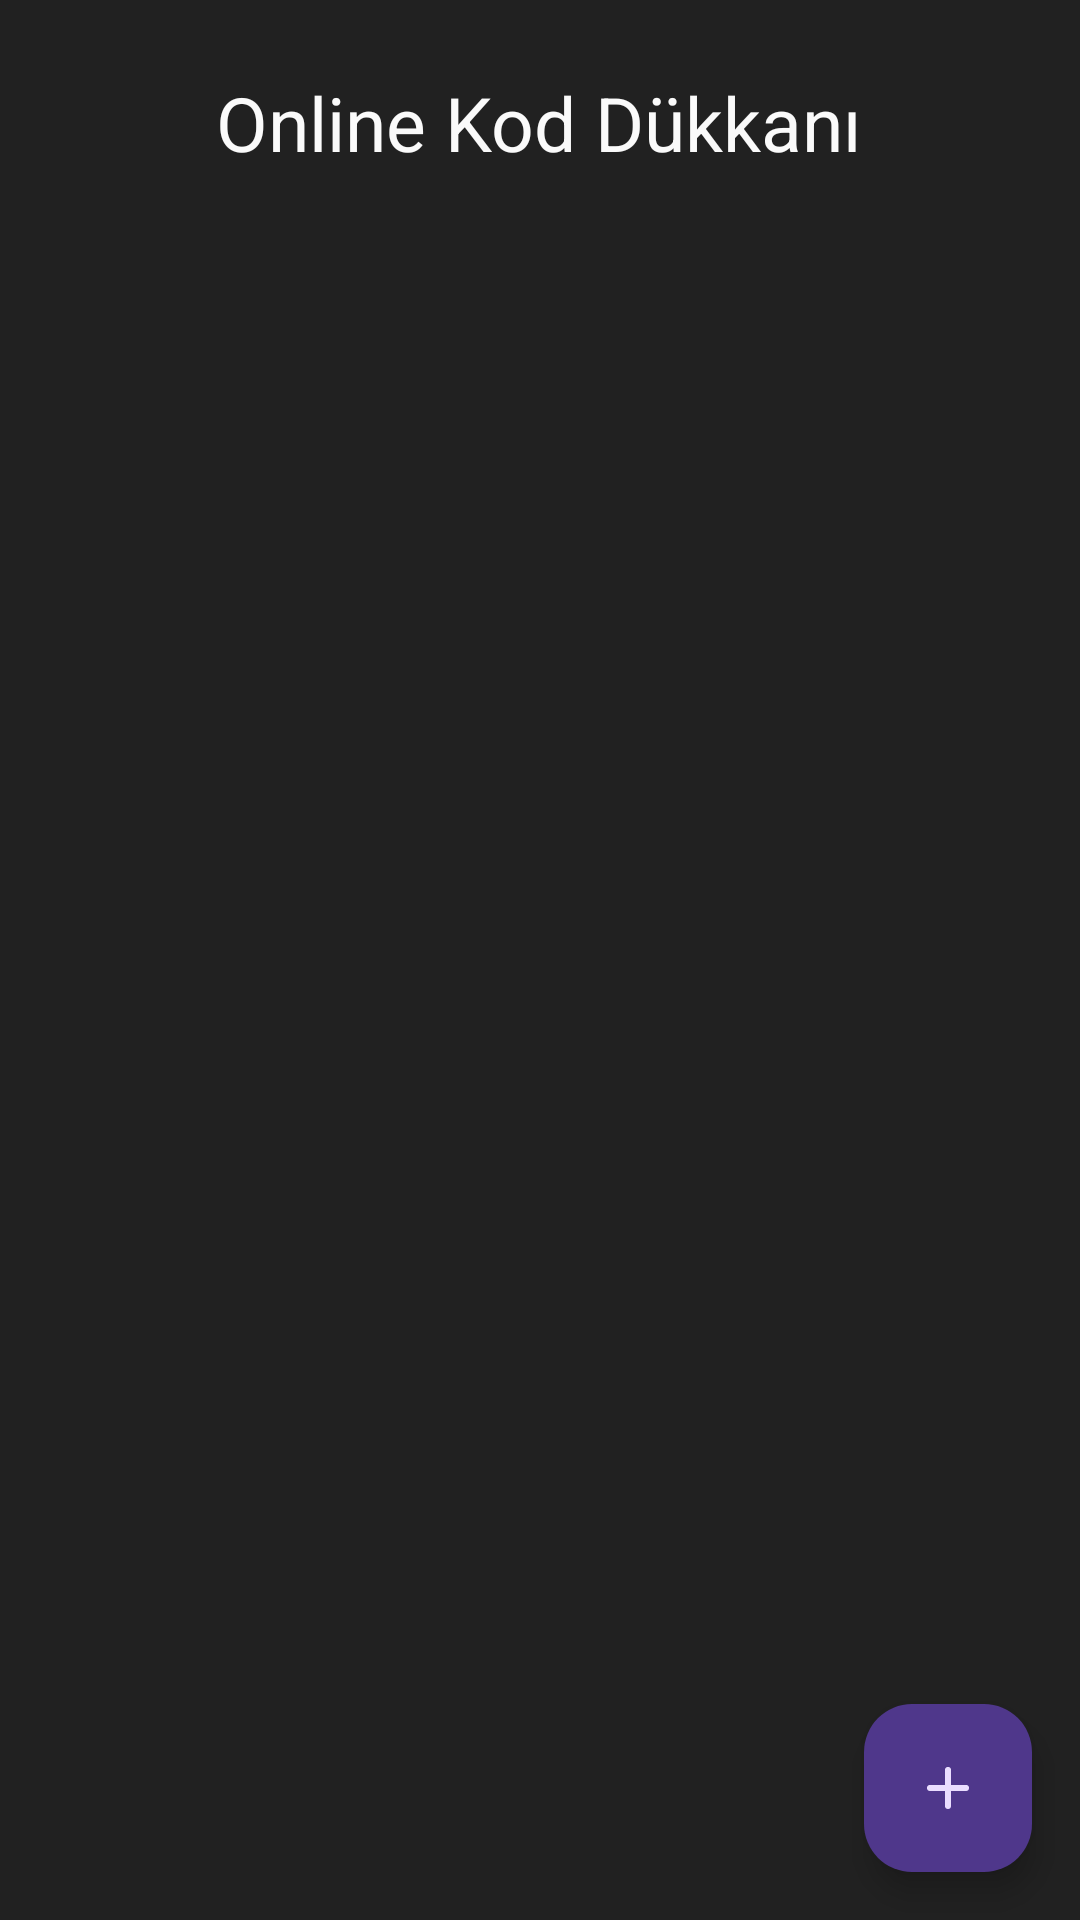

Icon bounding boxes for this 1080 × 1920 phone screenshot, format detection(x1, y1, x2, y2):
arti: detection(864, 1704, 1032, 1872)
